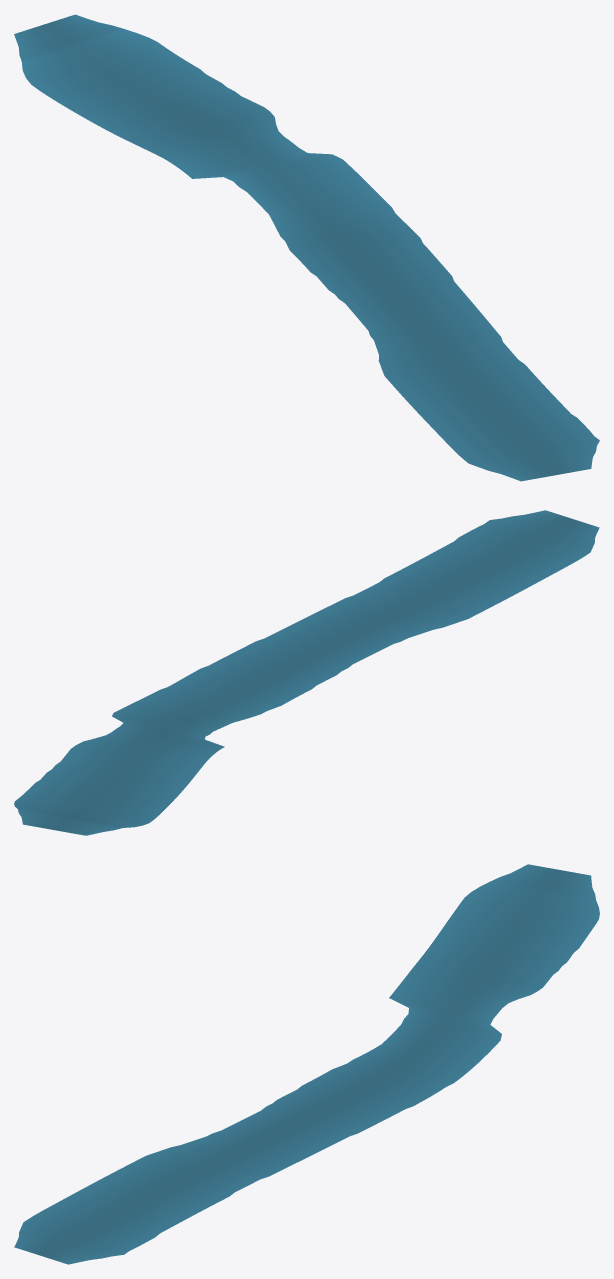
File: vallon_eau.gltf
3 renders of one model, top to bottom at view 1: azimuth 30°, elevation 25°; view 2: azimuth 150°, elevation 25°; view 3: azimuth 330°, elevation 25°, orthographic. The views are drawn at different scales.
Visible parts, largest first — view 1: vallon_eau; view 2: vallon_eau; view 3: vallon_eau.
Part boxes in pixels (left/top/right/bottom): vallon_eau: left=14, top=14, right=599, bottom=481; vallon_eau: left=14, top=510, right=599, bottom=835; vallon_eau: left=14, top=864, right=599, bottom=1264.
Size of the model in its own units: 40.82 by 7.97 by 190.
